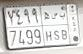4: (16, 8, 25, 46)
7: (7, 9, 16, 47)
9: (24, 7, 33, 46), (32, 6, 41, 44)
B: (59, 12, 67, 40)
H: (44, 10, 52, 42)
S: (52, 12, 60, 40)
